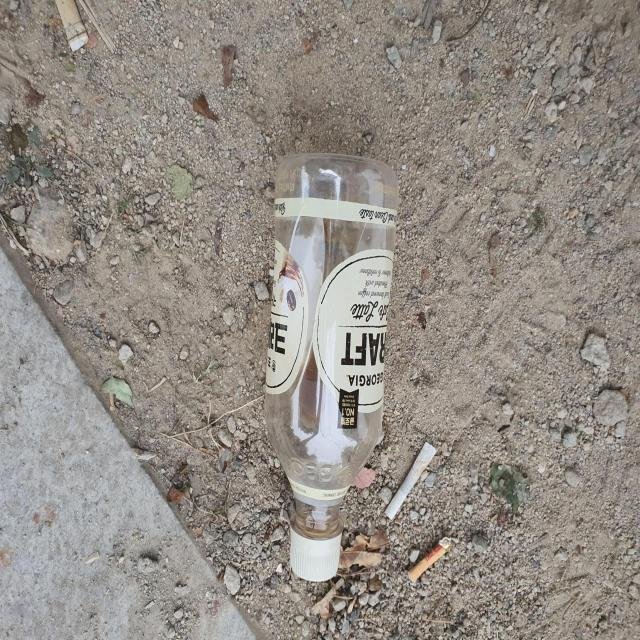plastic: (265, 154, 398, 582)
